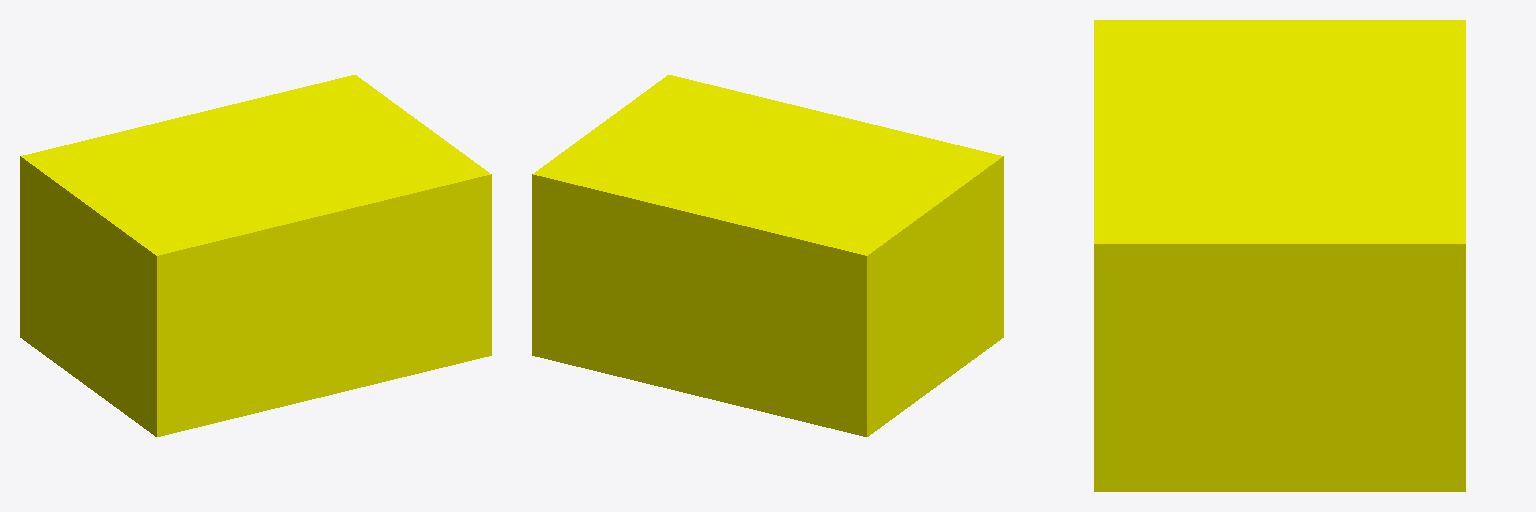
URDF robot description (red_cube):
<?xml version="1.0" ?>
<robot name="red_cube">
  <link name="base_link">
    <inertial>
      <origin rpy="0.0 0.0 0.0" xyz="0.0 0.0 0.0"/>
      <mass value="0.1"/>
      <inertia ixx="4.166666666666668e-05" ixy="0.0" ixz="0.0" iyy="4.166666666666668e-05" iyz="0.0" izz="4.166666666666668e-05"/>
    </inertial>
    <visual>
      <origin rpy="0.0 0.0 0.0" xyz="0.0 0.0 0.0"/>
      <geometry>
        <box size="0.305 0.215 0.158"/>
      </geometry>
      <material name="bo">
        <color rgba="1 1 0 1"/>
      </material>
    </visual>
    <collision>
      <origin rpy="0.0 0.0 0.0" xyz="0.0 0.0 0.0"/>
      <geometry>
        <box size="0.305 0.215 0.157"/>
      </geometry>
    </collision>
  </link>
  <!--
  <gazebo reference="base_link">
    <material>Gazebo/Red</material>
  </gazebo> -->
</robot>

--- Render facts (derived) ---
3 views of the same robot in one strip: view 1: azimuth 30°, elevation 25°; view 2: azimuth 150°, elevation 25°; view 3: azimuth 270°, elevation 25° (orthographic).
Robot: red_cube — 1 links, 0 joints (none); root link base_link; default pose: every joint at zero.
Visible links, largest first — view 1: base_link; view 2: base_link; view 3: base_link.
Boxes of the visible links, x1,y1,x2,y2 form: base_link: [20, 75, 491, 436]; base_link: [532, 75, 1003, 436]; base_link: [1094, 20, 1465, 491].
Bounding box of the posed robot: 0.305 × 0.215 × 0.158 m (x, y, z).
Geometry: primitives only (box / cylinder / sphere), no mesh files.